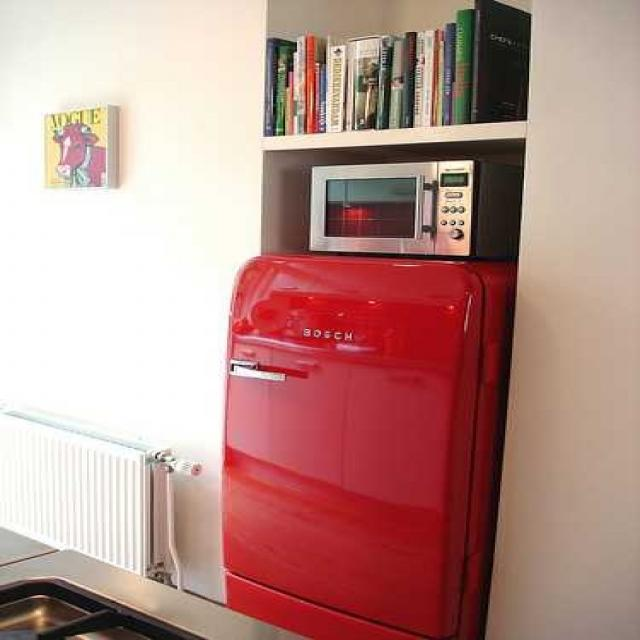refrigerator: (224, 256, 503, 620)
